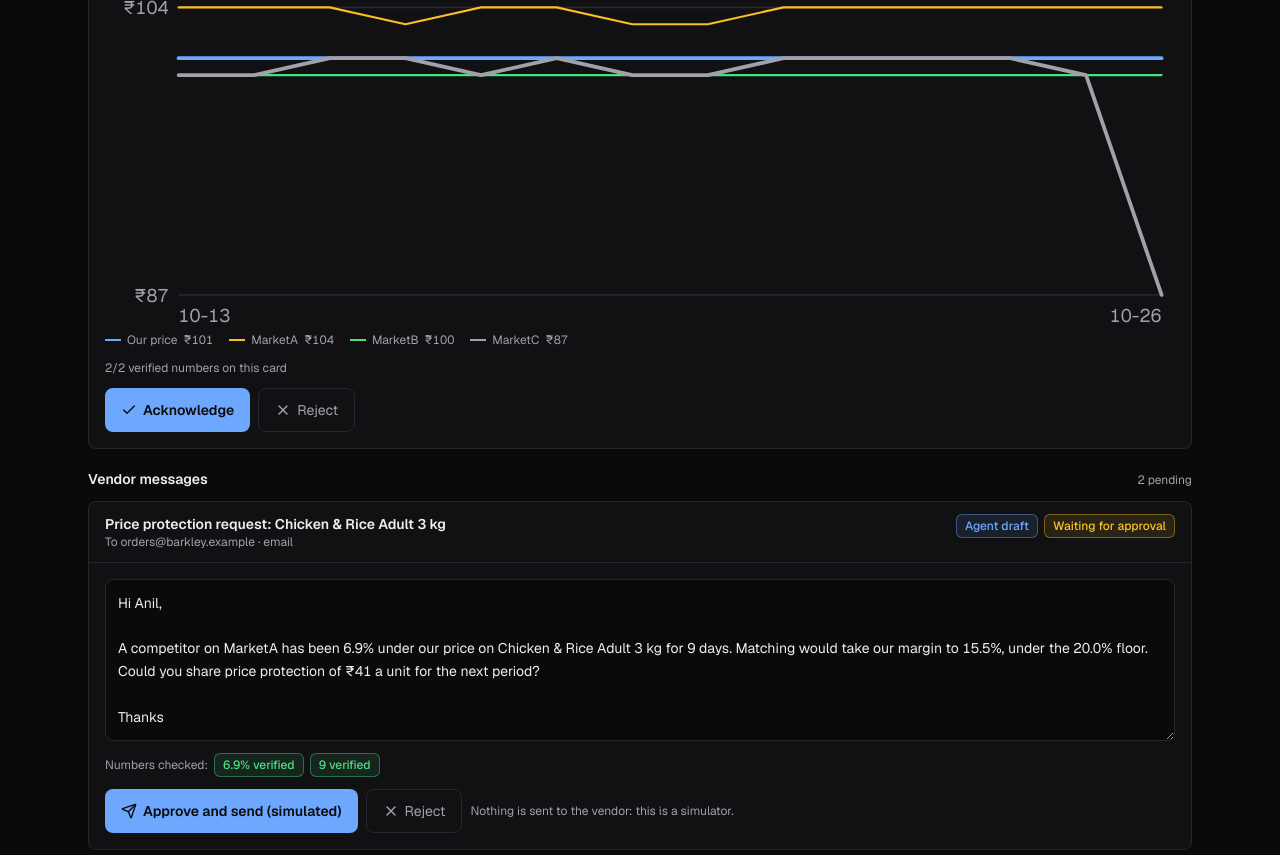
Test: PriceWatchPage › acknowledges a hold, which keeps watching
(page scrolled)
Click the button with aria-label "Acknowledge NP-04" at {"x": 178, "y": 410}, box [105,388,250,432]
(page scrolled)
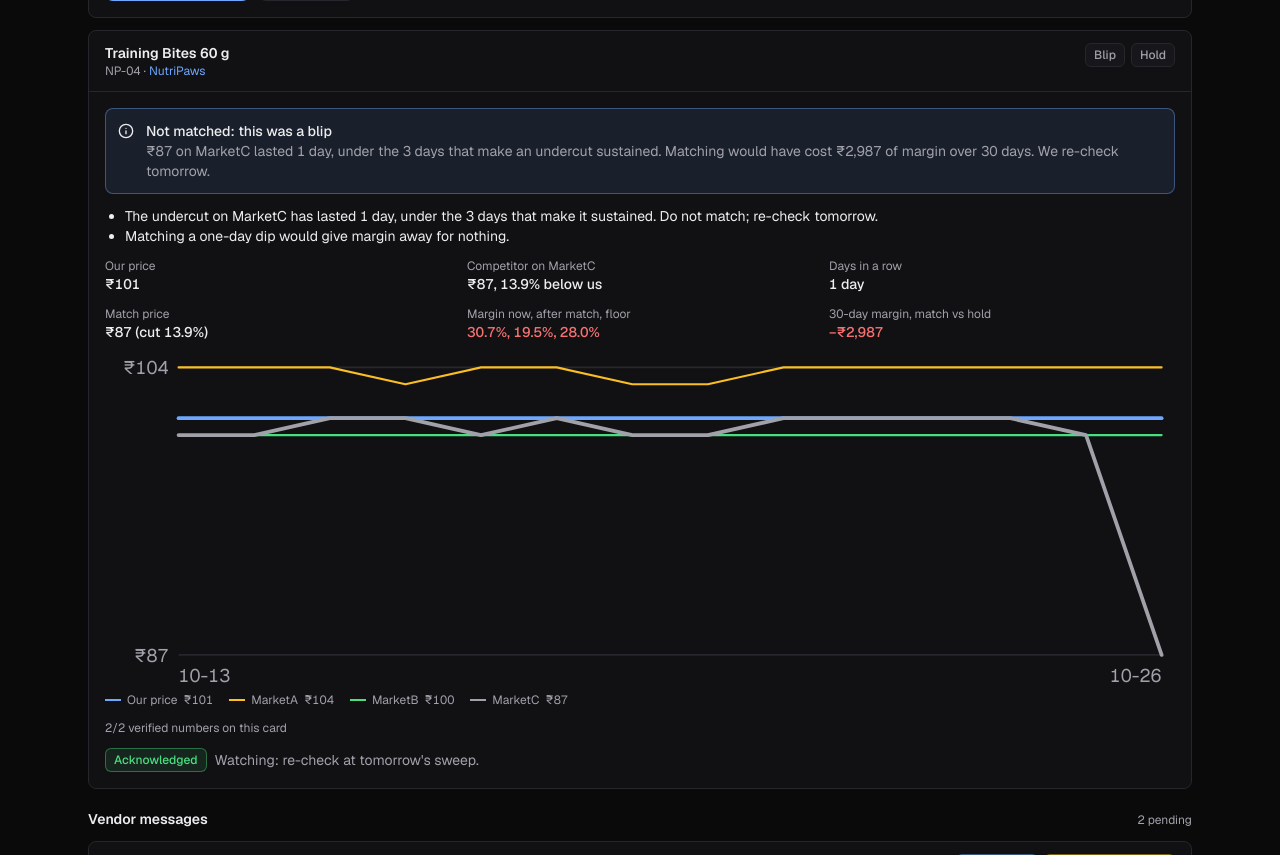
Now the text "Acknowledged" is shown, box [105,748,206,772]
